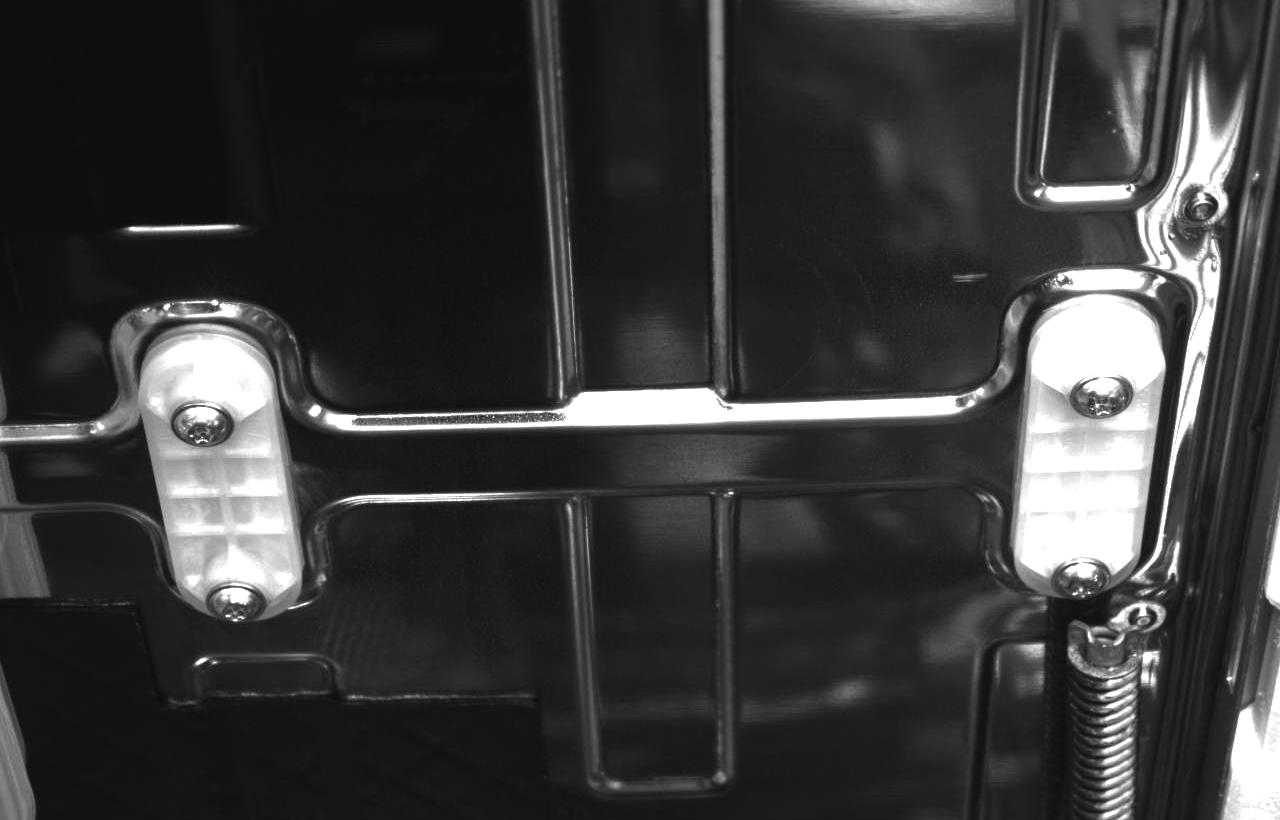vida-ok: (167, 394, 239, 461), (1067, 368, 1134, 435), (1053, 545, 1119, 604), (201, 574, 267, 632)
